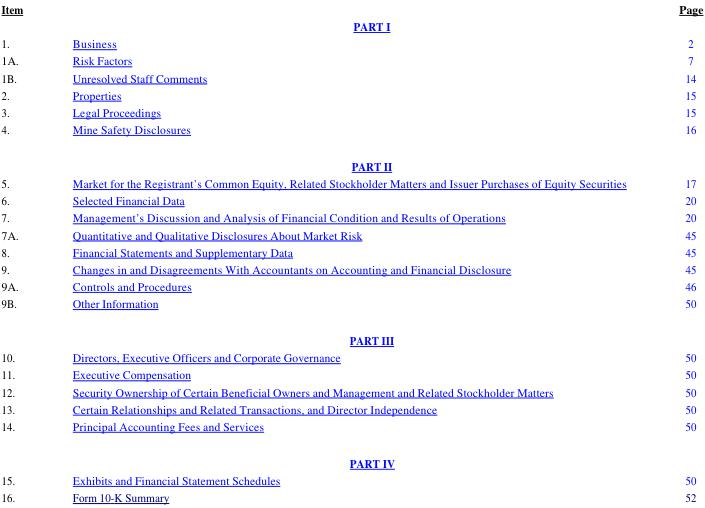table: (0, 0, 702, 504)
table column: (47, 0, 651, 504), (651, 0, 702, 504), (0, 0, 47, 504)
table column header: (0, 0, 702, 34)
table row: (0, 0, 702, 34), (0, 119, 702, 147), (0, 443, 702, 471), (0, 147, 702, 174), (0, 294, 702, 321), (0, 321, 702, 348), (0, 416, 702, 443), (0, 276, 702, 294), (0, 34, 702, 51), (0, 51, 702, 68), (0, 68, 702, 85), (0, 85, 702, 102), (0, 102, 702, 119), (0, 174, 702, 191), (0, 191, 702, 208), (0, 208, 702, 225), (0, 225, 702, 242), (0, 242, 702, 259), (0, 259, 702, 276), (0, 348, 702, 365), (0, 365, 702, 382), (0, 382, 702, 399), (0, 399, 702, 416), (0, 471, 702, 488), (0, 488, 702, 504)
table spanning cell: (0, 119, 47, 174), (0, 416, 47, 471), (0, 294, 47, 348)
